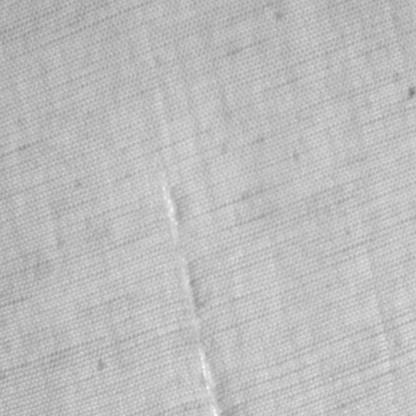thread error: (155, 160, 220, 415)
